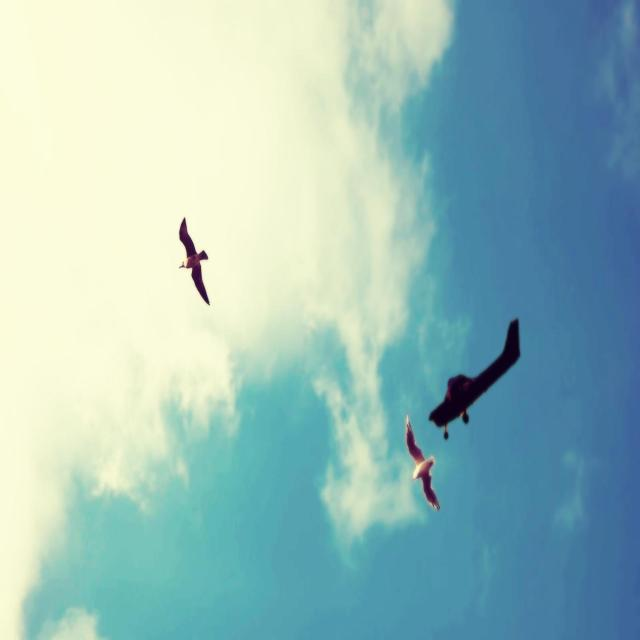airplane: (428, 316, 520, 441)
